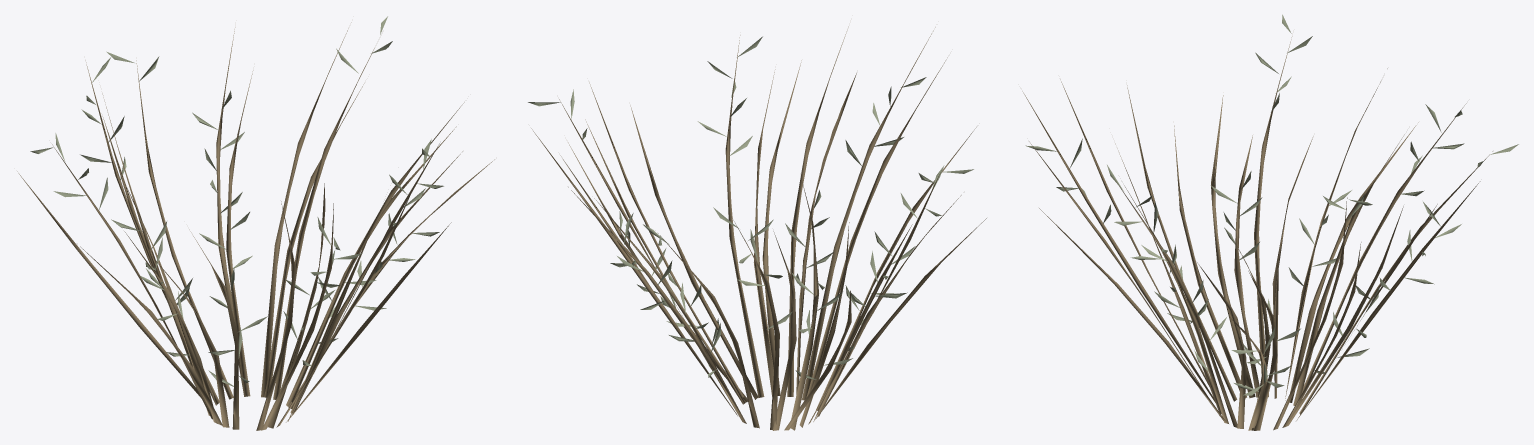
File: Immortelle_1_Niveau2.fbx
The picture shows the model from 3 angles, left to right: view 1: azimuth 30°, elevation 25°; view 2: azimuth 150°, elevation 25°; view 3: azimuth 270°, elevation 25°; orthographic projection.
Parts seen in each view (by area): view 1: Immortelle_1_Niveau2; view 2: Immortelle_1_Niveau2; view 3: Immortelle_1_Niveau2.
Boxes of the visible parts, box(x1,y1,x2,y2) form: Immortelle_1_Niveau2: box(17, 16, 494, 430); Immortelle_1_Niveau2: box(528, 26, 986, 430); Immortelle_1_Niveau2: box(1022, 14, 1518, 430).
Size of the model in its own units: 56.54 by 38.87 by 56.67.
